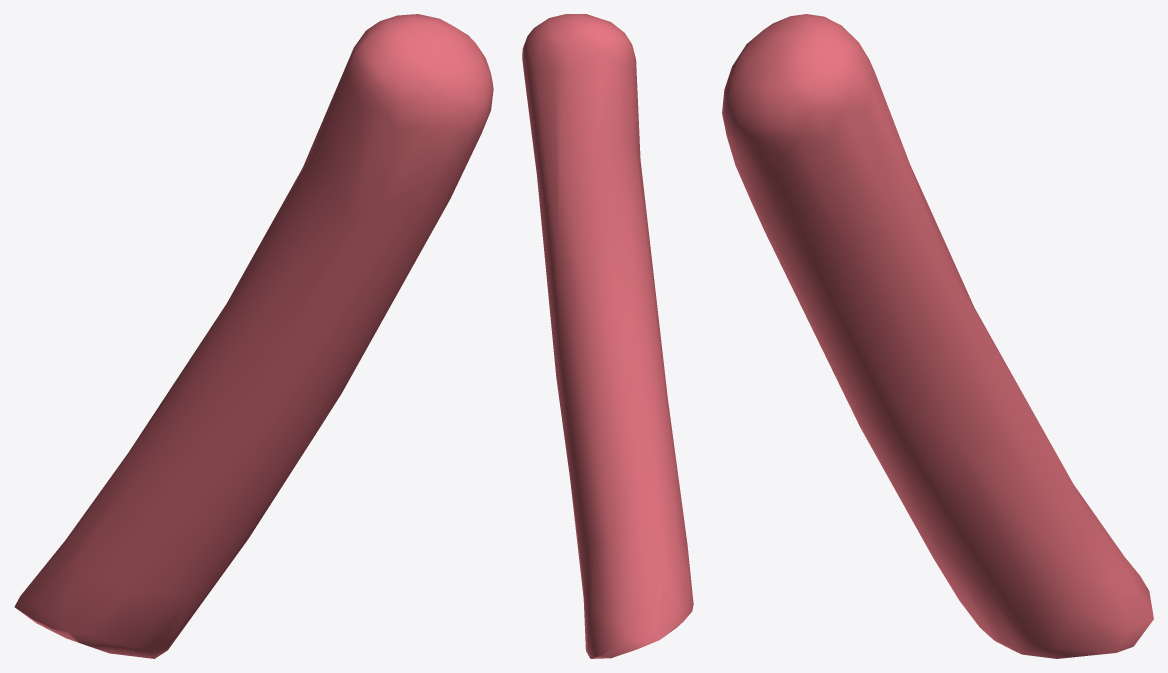
File: fma21387_fj3566.glb
3 views of the same model, side by side, from view 1: azimuth 30°, elevation 25°; view 2: azimuth 150°, elevation 25°; view 3: azimuth 270°, elevation 25° (orthographic). The views are drawn at different scales.
Parts seen in each view (by area): view 1: FMA21387_FJ3566; view 2: FMA21387_FJ3566; view 3: FMA21387_FJ3566.
Boxes of the visible parts, left/top/right/bottom form: FMA21387_FJ3566: left=14, top=14, right=493, bottom=658; FMA21387_FJ3566: left=522, top=14, right=693, bottom=658; FMA21387_FJ3566: left=722, top=14, right=1153, bottom=658.
Bounding box in the file's own units: 0.0323 × 0.064 × 0.0351.
